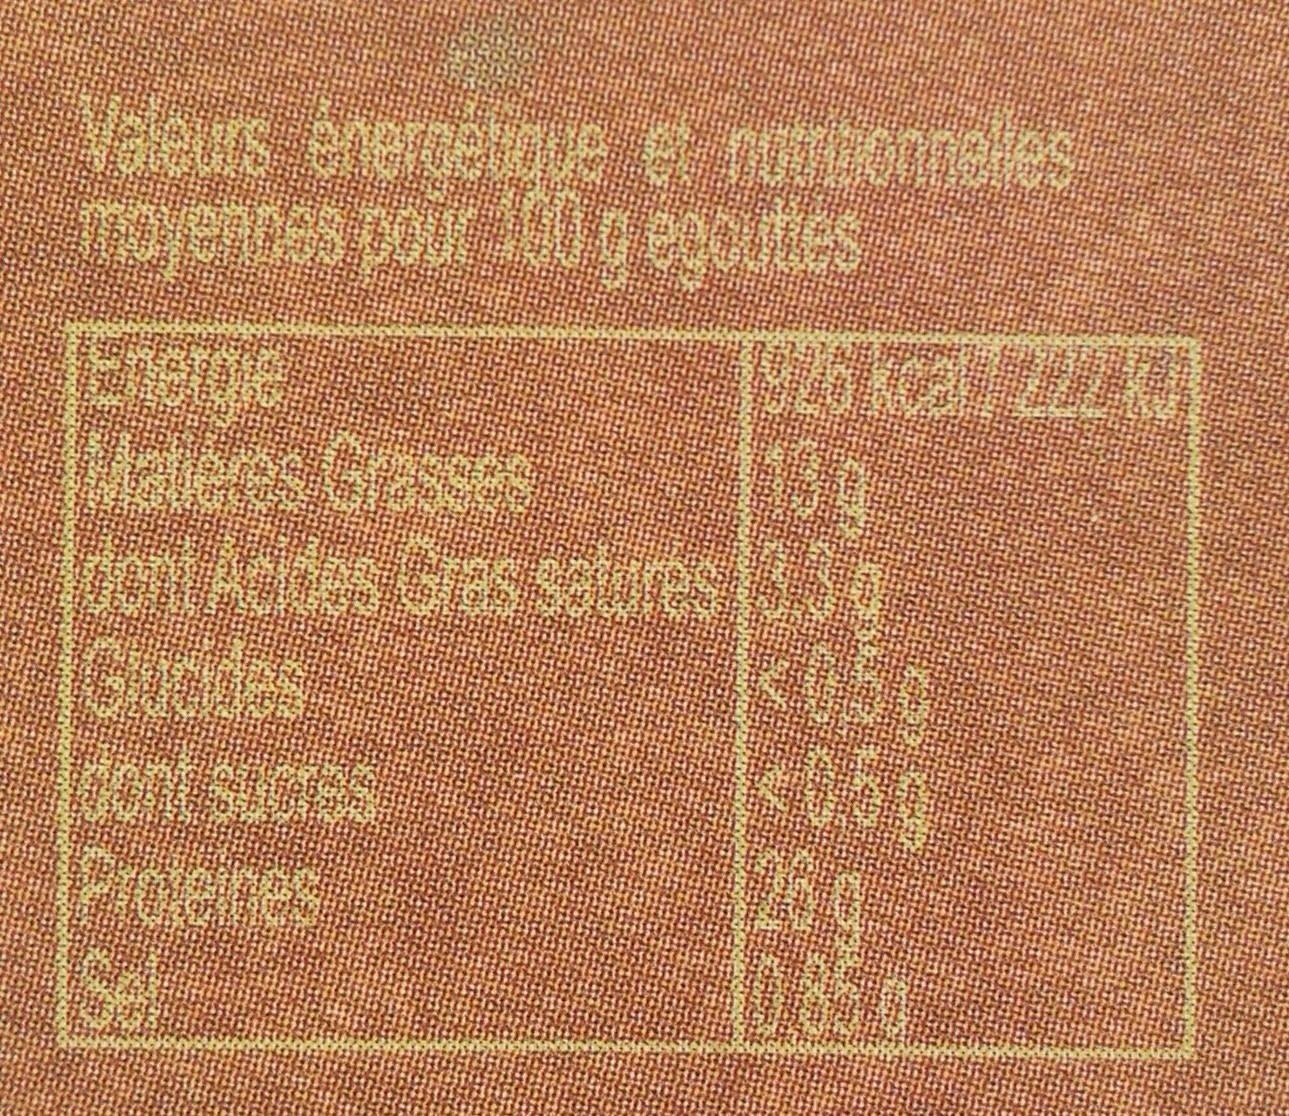column: (75, 334, 712, 1039), (761, 341, 1177, 1044)
table: (55, 312, 1212, 1073)
